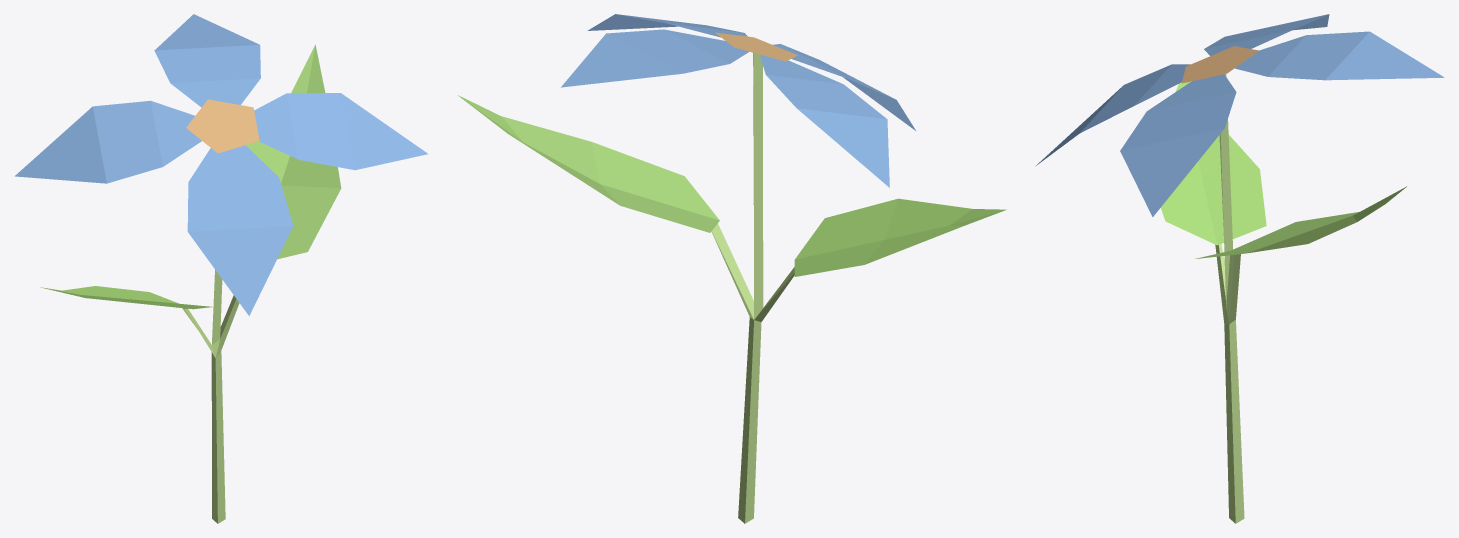
The model's file is Flower_a_TwoS_11.fbx.
3 renders of one model, left to right at view 1: azimuth 30°, elevation 25°; view 2: azimuth 150°, elevation 25°; view 3: azimuth 270°, elevation 25°, orthographic. The views are drawn at different scales.
Parts seen in each view (by area): view 1: Flower_a_TwoS_11; view 2: Flower_a_TwoS_11; view 3: Flower_a_TwoS_11.
Boxes of the visible parts, x1,y1,x2,y2 form: Flower_a_TwoS_11: (15,14,427,523); Flower_a_TwoS_11: (457,14,1006,523); Flower_a_TwoS_11: (1035,14,1444,523).
Bounding box in the file's own units: 0.6032 × 0.6586 × 0.5037.
